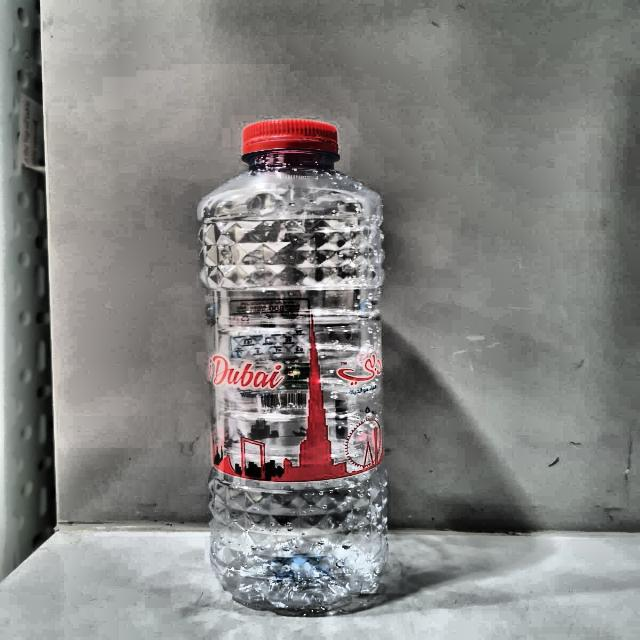Bottles: (191, 116, 400, 618)
